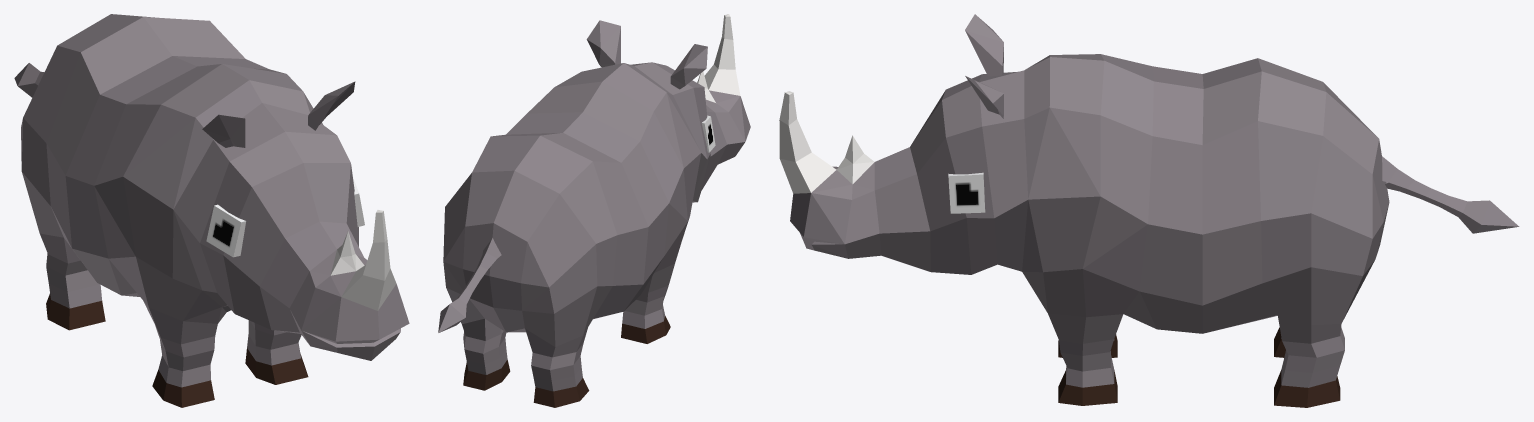
File: xiniu.FBX
3 views of the same model, side by side, from view 1: azimuth 30°, elevation 25°; view 2: azimuth 150°, elevation 25°; view 3: azimuth 270°, elevation 25° (orthographic). The views are drawn at different scales.
Visible parts, largest first — view 1: xiniu; view 2: xiniu; view 3: xiniu.
Boxes of the visible parts, left/top/right/bottom form: xiniu: left=14, top=14, right=409, bottom=407; xiniu: left=438, top=14, right=750, bottom=407; xiniu: left=779, top=14, right=1519, bottom=407.
Bounding box in the file's own units: 206 × 298 × 616.
